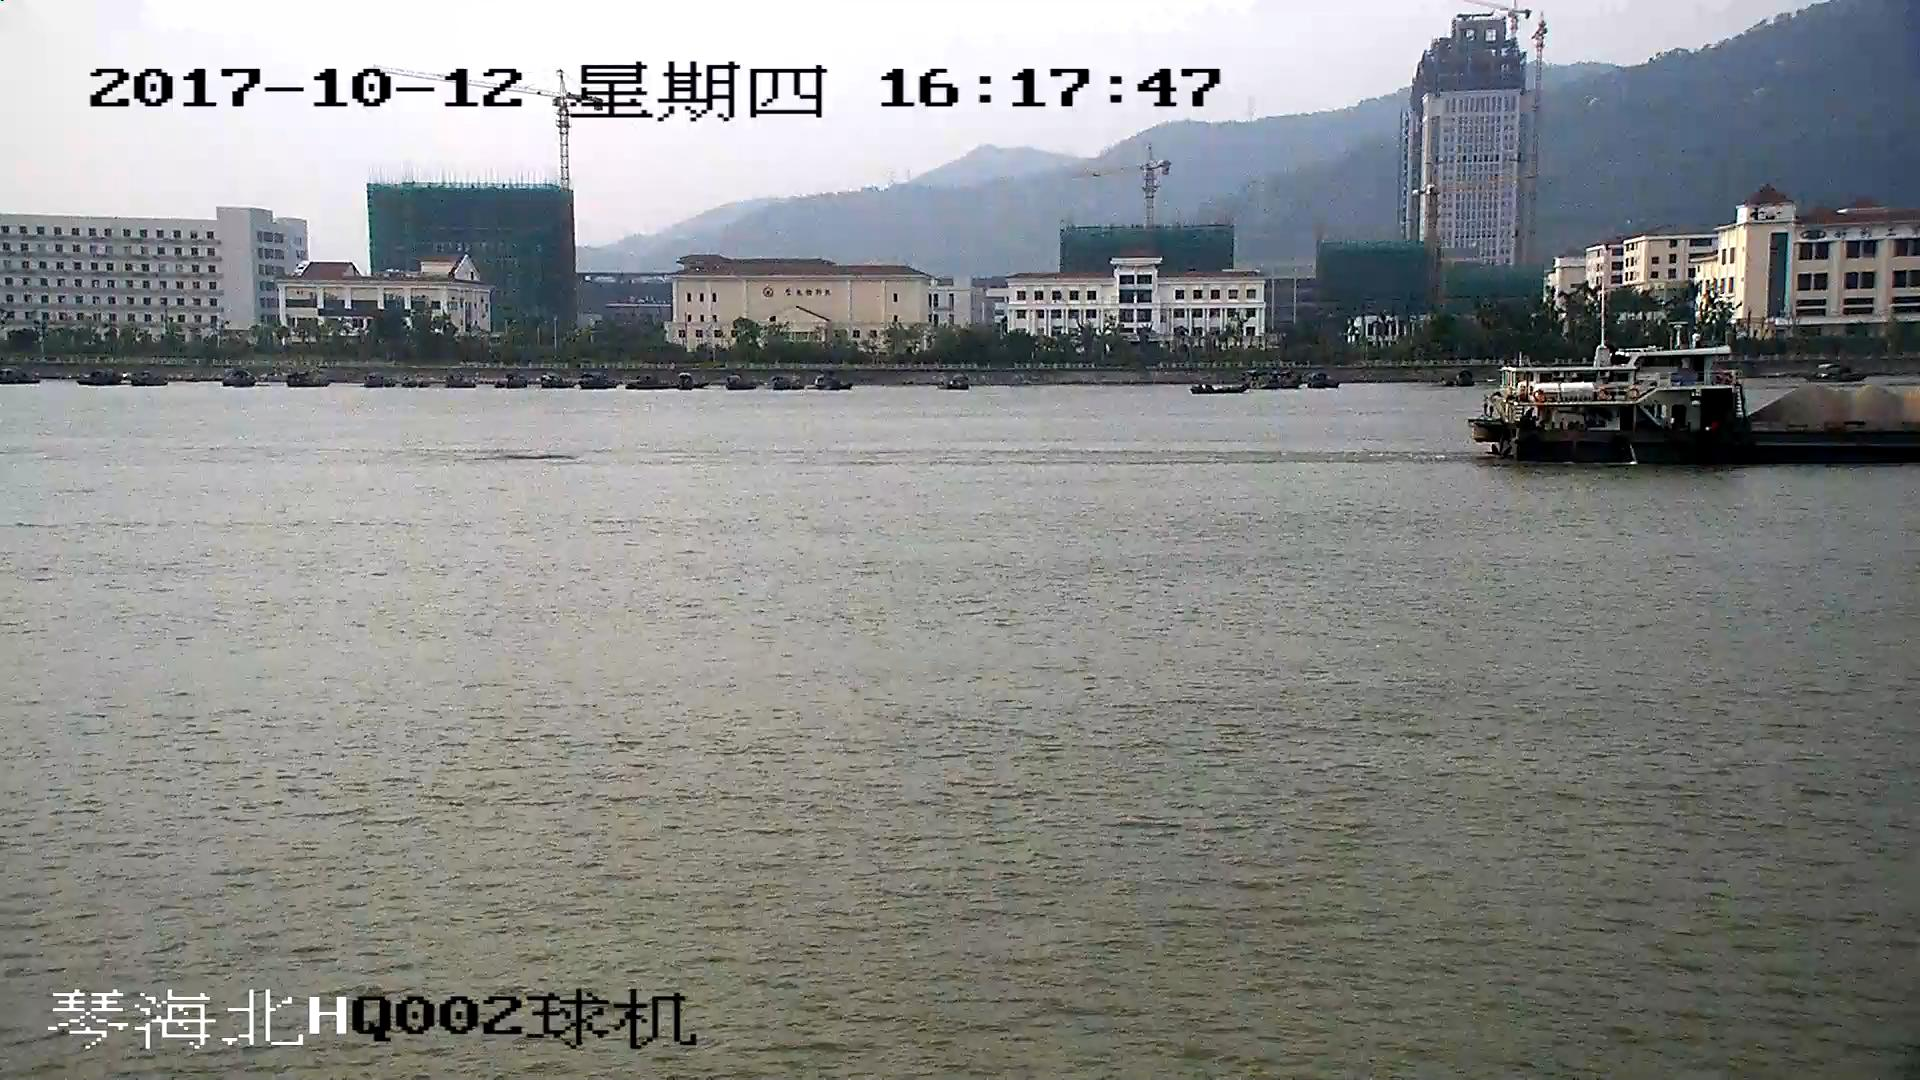ore carrier: (1476, 347, 1920, 461)
